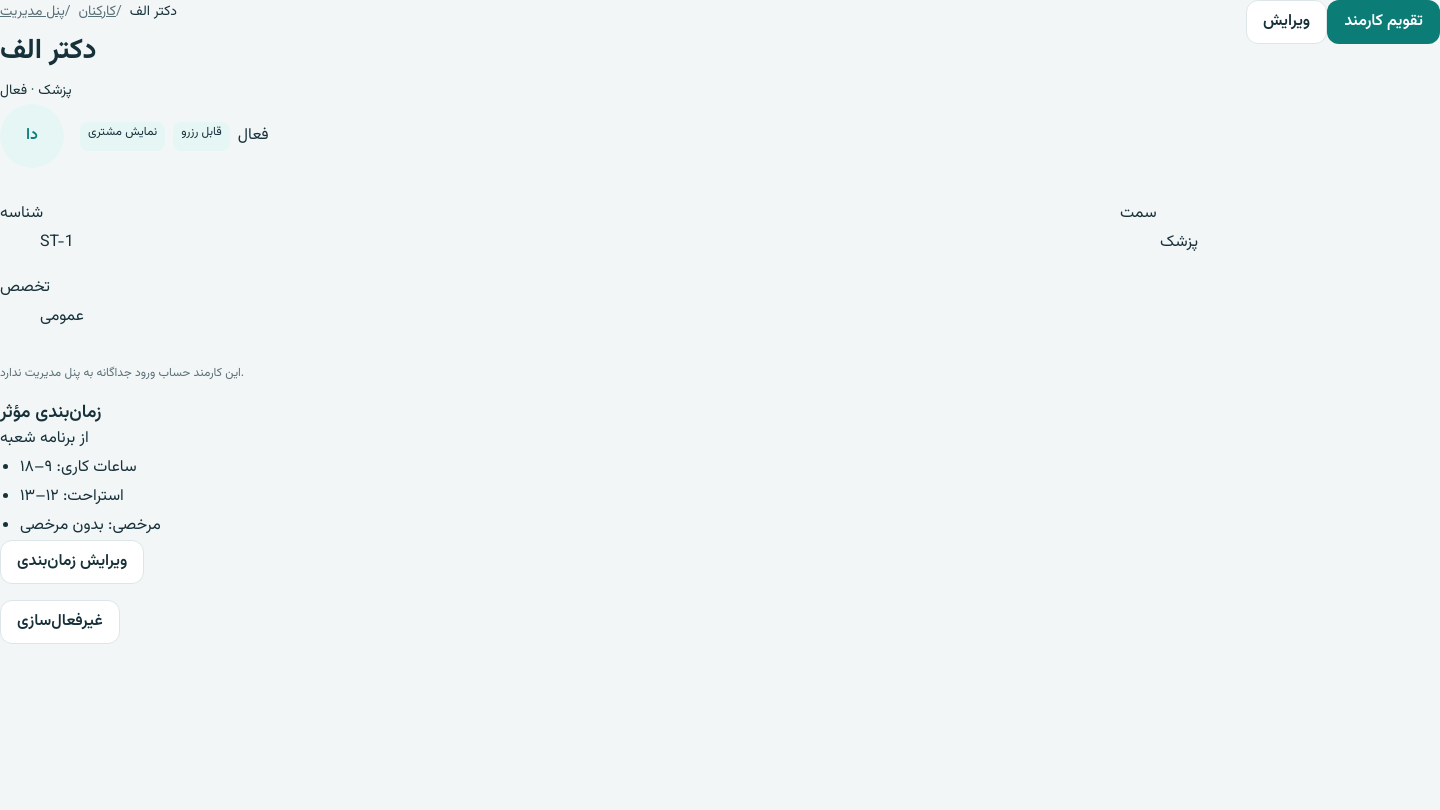
Scenario: AdminStaffDetailScreen › requires impact preview before deactivation
Click the button "غیرفعال‌سازی" at (60, 622), box x1=0 y1=600 x2=120 y2=644
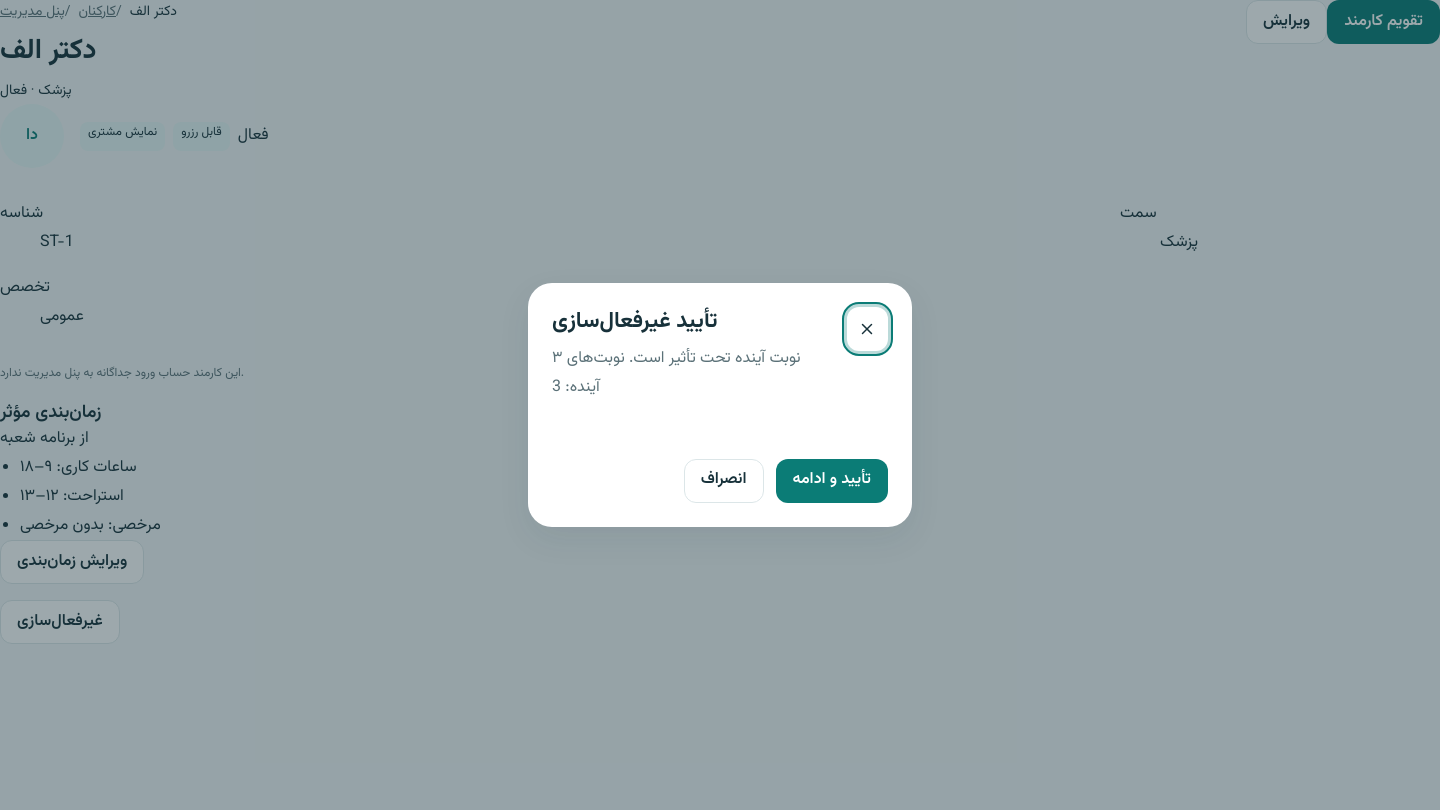
Now the text "۳ نوبت آینده تحت تأثیر است. نوبت‌های آینده: 3" is shown, box x1=552 y1=345 x2=835 y2=403
